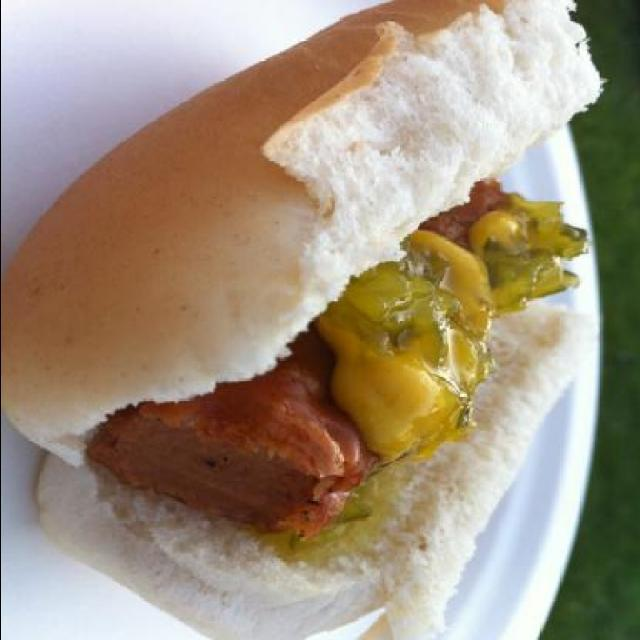Hot dog: (2, 0, 610, 638)
